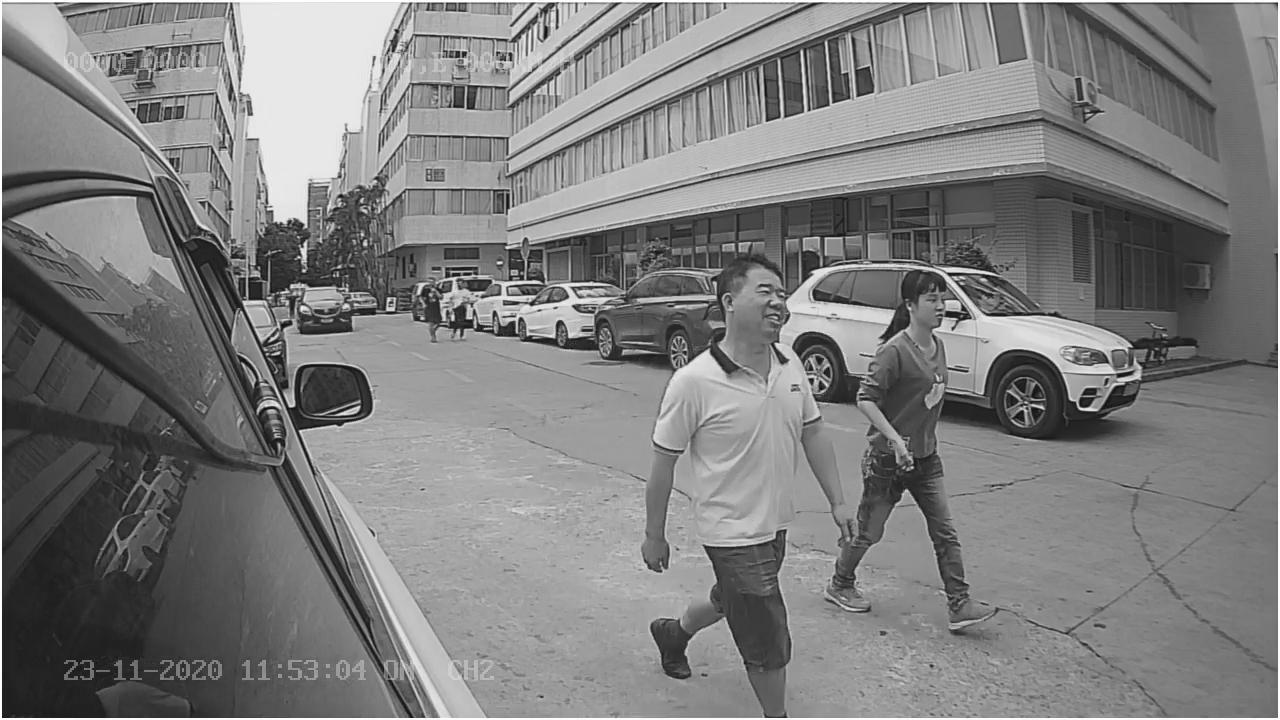person: (646, 254, 846, 701), (850, 264, 976, 631)
